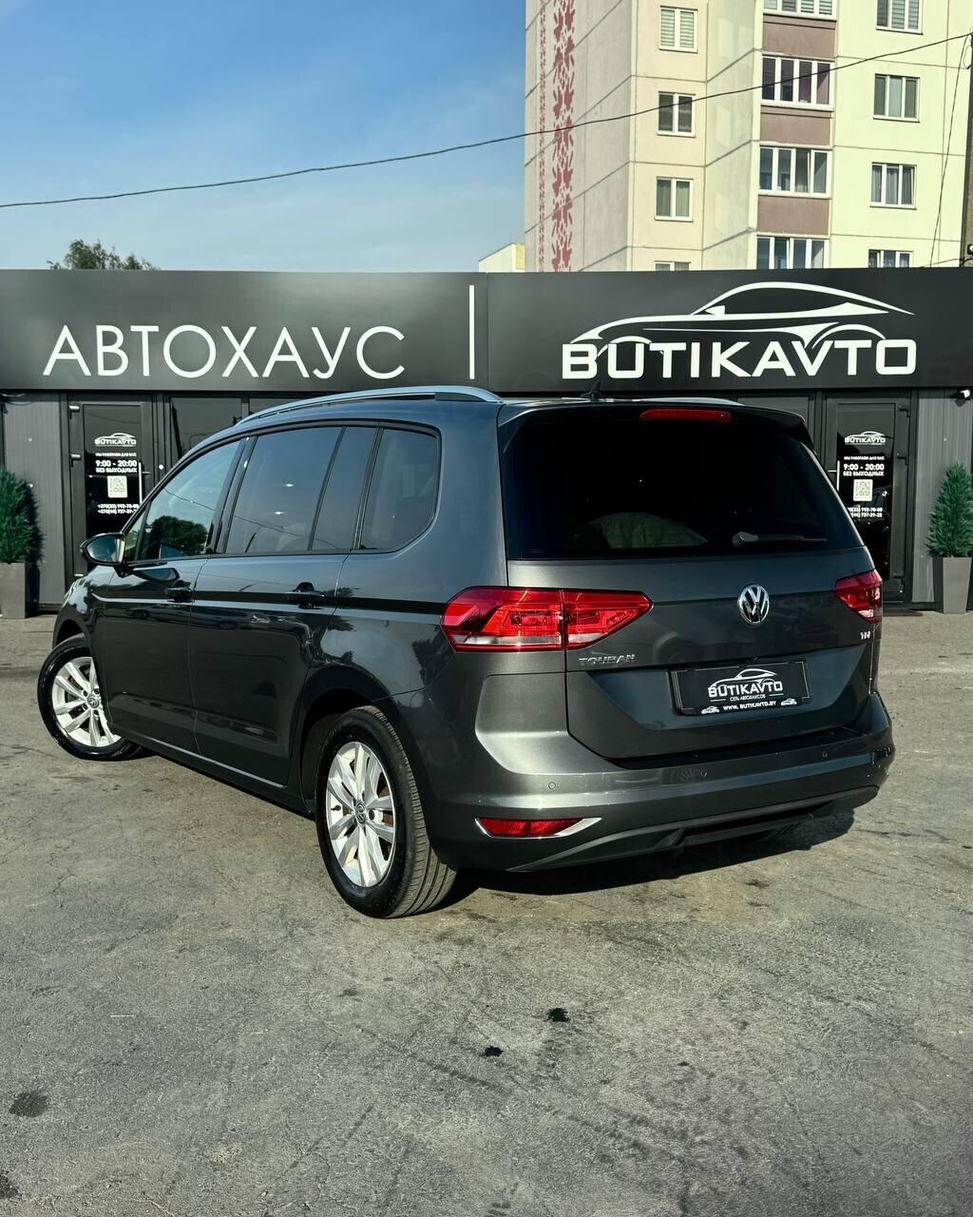Touran_2015: (38, 388, 895, 914)
